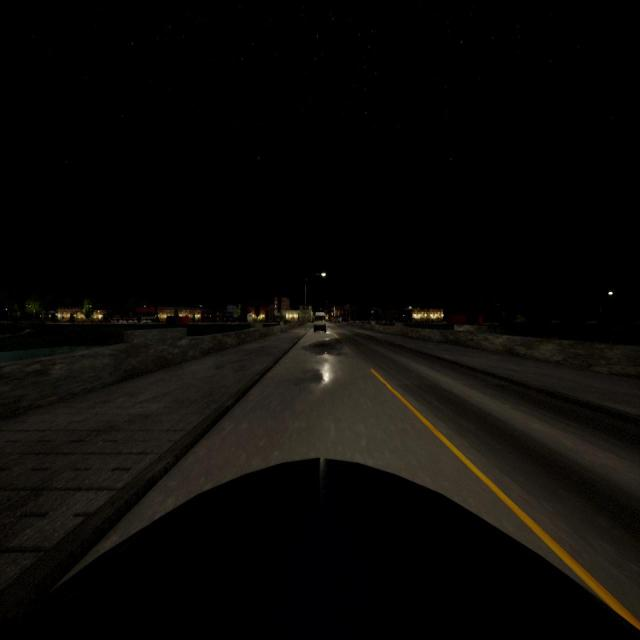Vehicle: (1, 455, 640, 640), (312, 310, 328, 334)
